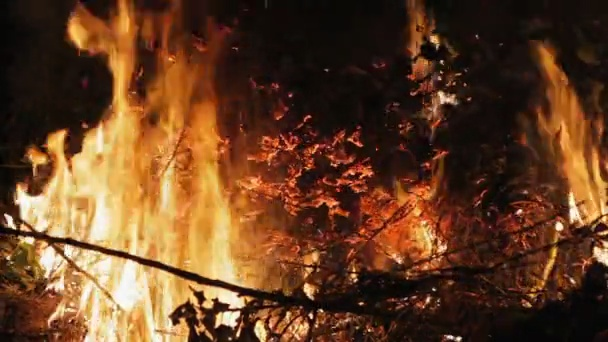fire: (4, 1, 252, 341), (537, 48, 608, 263)
